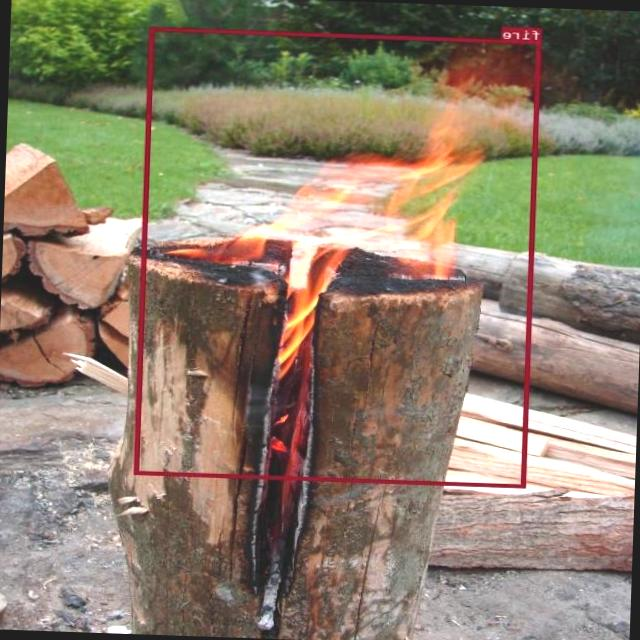fire: (135, 26, 541, 487)
